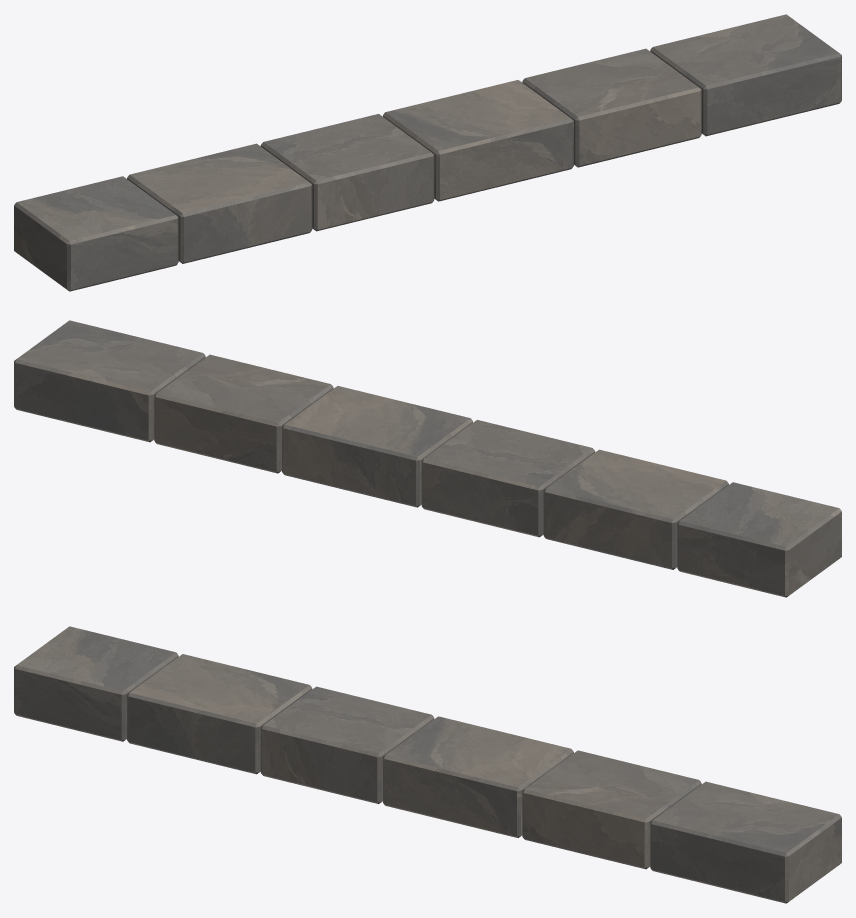
Rendered from S06_WallCap_4x0.25x0.50_UV1.fbx.
The picture shows the model from 3 angles, top to bottom: view 1: azimuth 30°, elevation 25°; view 2: azimuth 150°, elevation 25°; view 3: azimuth 330°, elevation 25°; orthographic projection.
Parts seen in each view (by area): view 1: S06_Export_UV1; view 2: S06_Export_UV1; view 3: S06_Export_UV1.
Boxes of the visible parts, <box> form: S06_Export_UV1: <box>14,14,841,291</box>; S06_Export_UV1: <box>14,320,841,597</box>; S06_Export_UV1: <box>14,626,841,903</box>.
Size of the model in its own units: 4 by 0.25 by 0.5.
